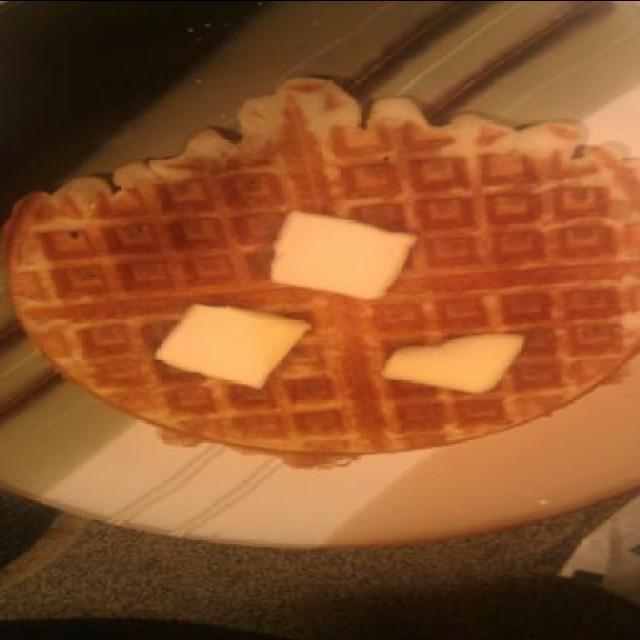Waffle: (1, 78, 640, 471)
